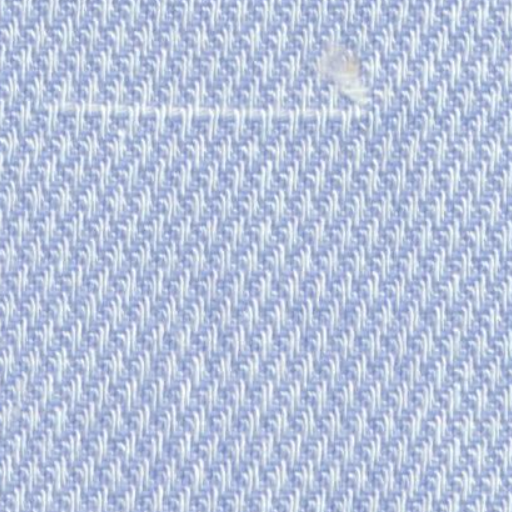DaiSha: (52, 82, 368, 150)
